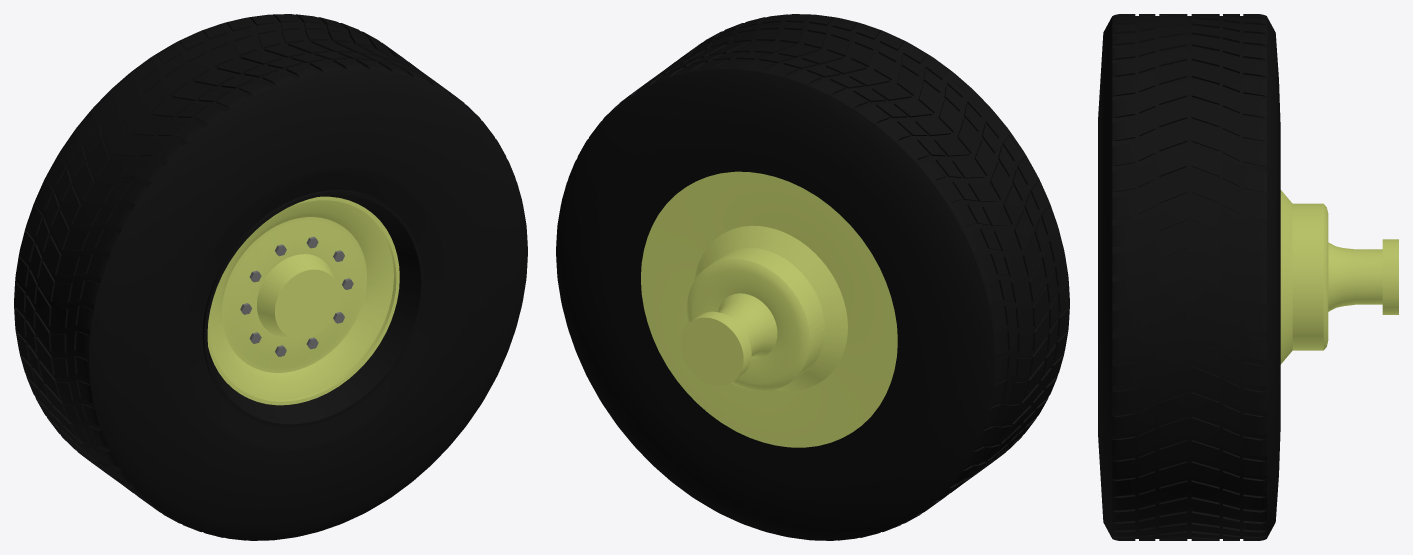
The model's file is Oshkosh_Wheel.dae.
3 views of the same model, side by side, from view 1: azimuth 30°, elevation 25°; view 2: azimuth 150°, elevation 25°; view 3: azimuth 270°, elevation 25° (orthographic). The views are drawn at different scales.
Parts seen in each view (by area): view 1: Wheels_Right_1_001; view 2: Wheels_Right_1_001; view 3: Wheels_Right_1_001.
Boxes of the visible parts, x1,y1,x2,y2 form: Wheels_Right_1_001: (14,14,527,540); Wheels_Right_1_001: (556,14,1069,540); Wheels_Right_1_001: (1098,14,1398,540).
Size of the model in its own units: 1.34 by 0.7664 by 1.34.
